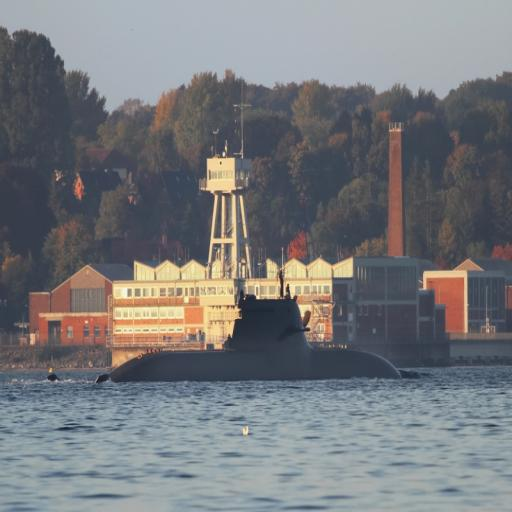submarine: (47, 299, 402, 386)
